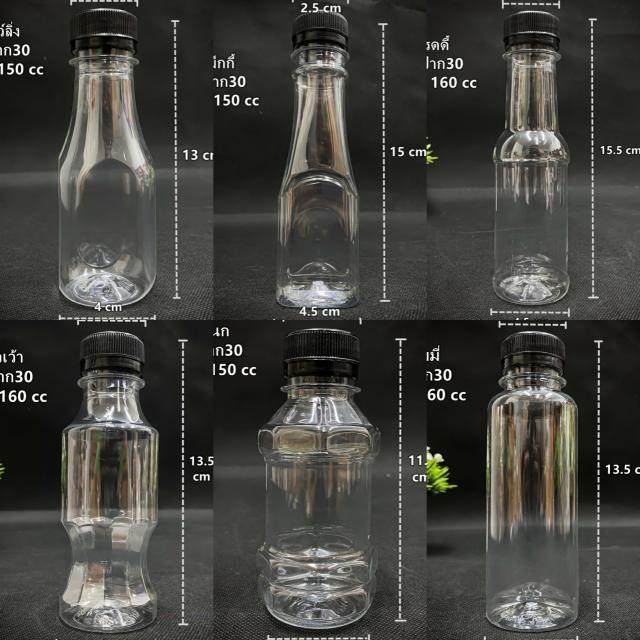plastik: (258, 329, 380, 629), (59, 333, 159, 632), (59, 9, 156, 309), (486, 333, 579, 632), (276, 13, 360, 308), (492, 13, 570, 305)
